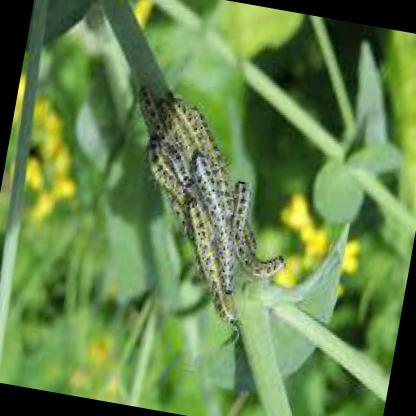pieris: (188, 155, 235, 283), (187, 194, 232, 324), (231, 178, 286, 276)
